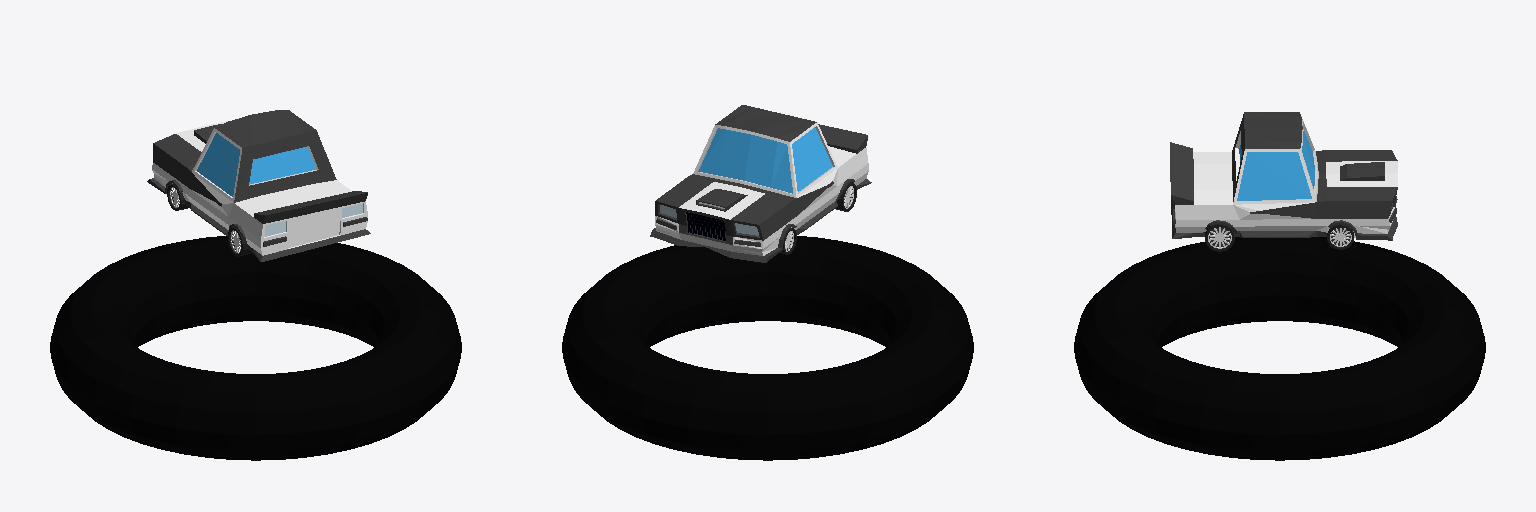
Rendered from PowerUpCar.obj.
The picture shows the model from 3 angles: view 1: azimuth 30°, elevation 25°; view 2: azimuth 150°, elevation 25°; view 3: azimuth 270°, elevation 25°; orthographic projection.
Parts seen in each view (by area): view 1: Torus, body_ID56; view 2: Torus, body_ID56, lattice.1_ID29; view 3: Torus, body_ID56, wheel.1_ID84, wheel1.1_ID93.
Boxes of the visible parts, box(x1,y1,x2,y2) form: Torus: box(50, 236, 461, 460); body_ID56: box(147, 110, 370, 261); Torus: box(562, 236, 973, 460); body_ID56: box(650, 105, 871, 262); lattice.1_ID29: box(686, 212, 725, 240); Torus: box(1074, 237, 1485, 460); body_ID56: box(1170, 112, 1397, 240); wheel.1_ID84: box(1205, 224, 1234, 251); wheel1.1_ID93: box(1327, 224, 1353, 249).
Bounding box in the file's own units: 1.88 × 1.32 × 1.88.